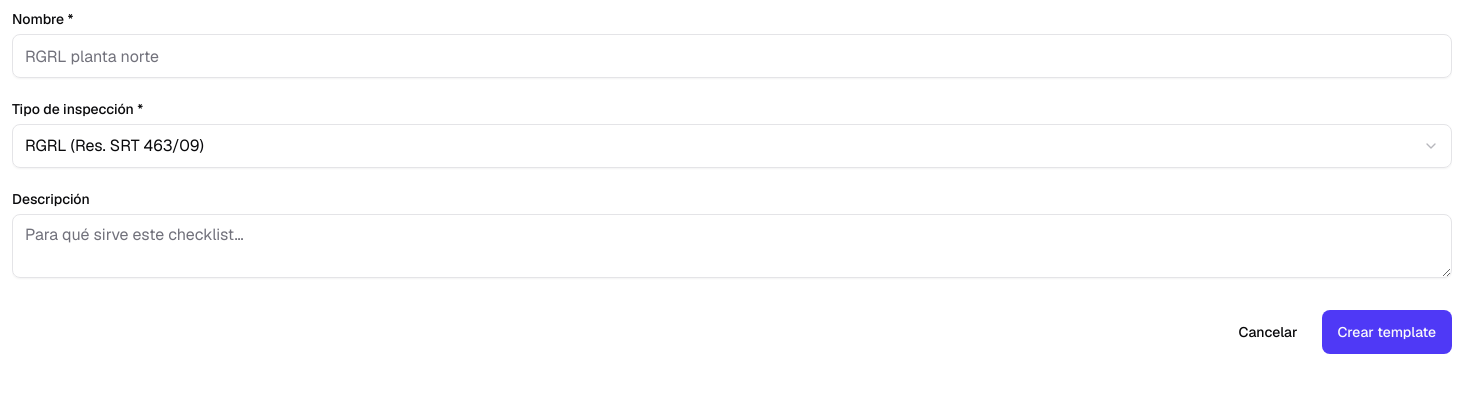
Test: TemplateMetaForm › DUPLICATE_NAME → setError en nombre + toast
In the field with placeholder "RGRL planta norte": (732, 56) [12, 34, 1452, 78], type "Repetido"
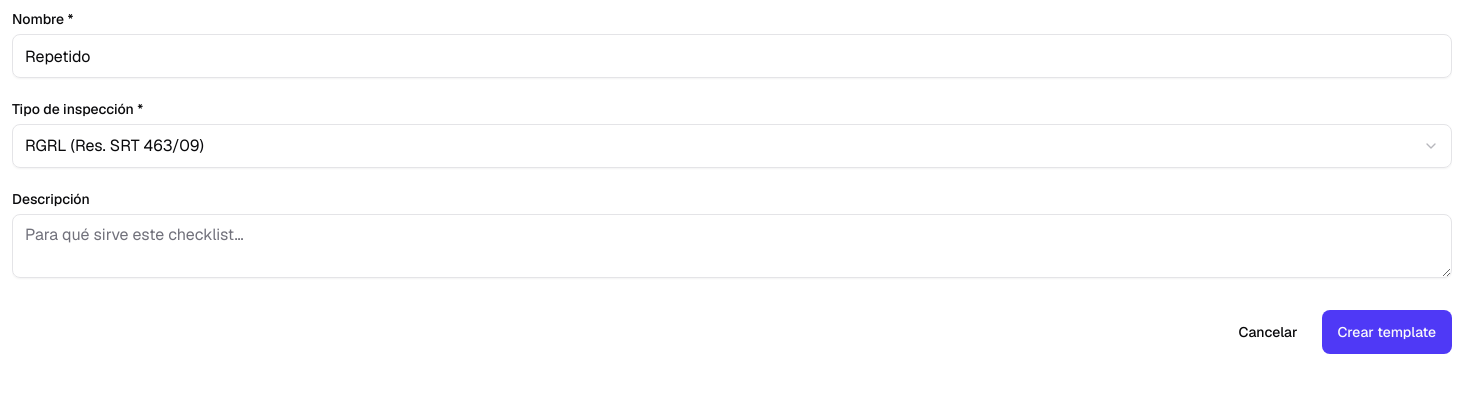
Click the button "Crear template": (1387, 332) [1322, 310, 1452, 354]
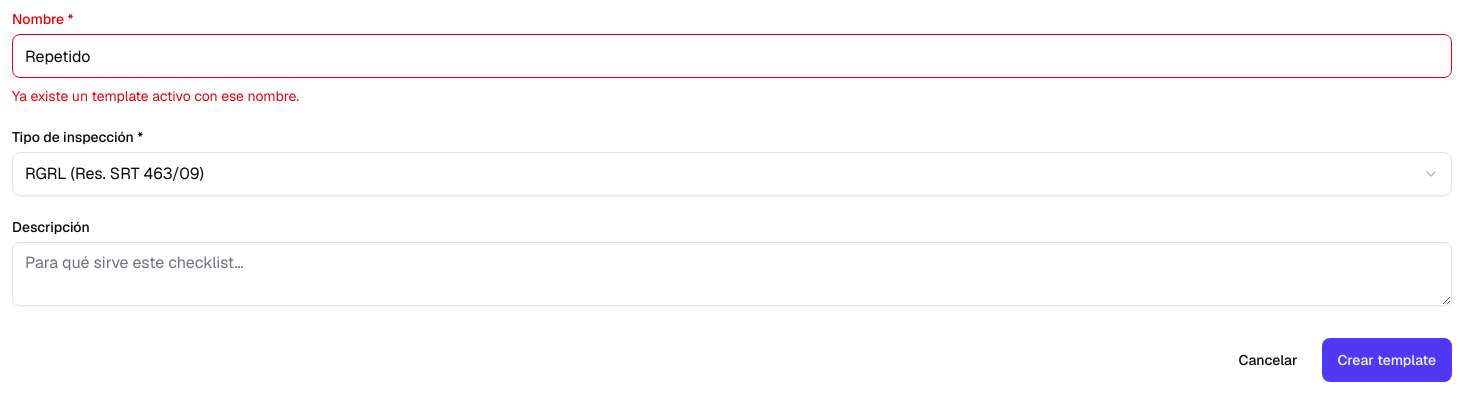
Now the text "Ya existe un template activo con ese nombre." is shown, box [12, 87, 299, 105]
